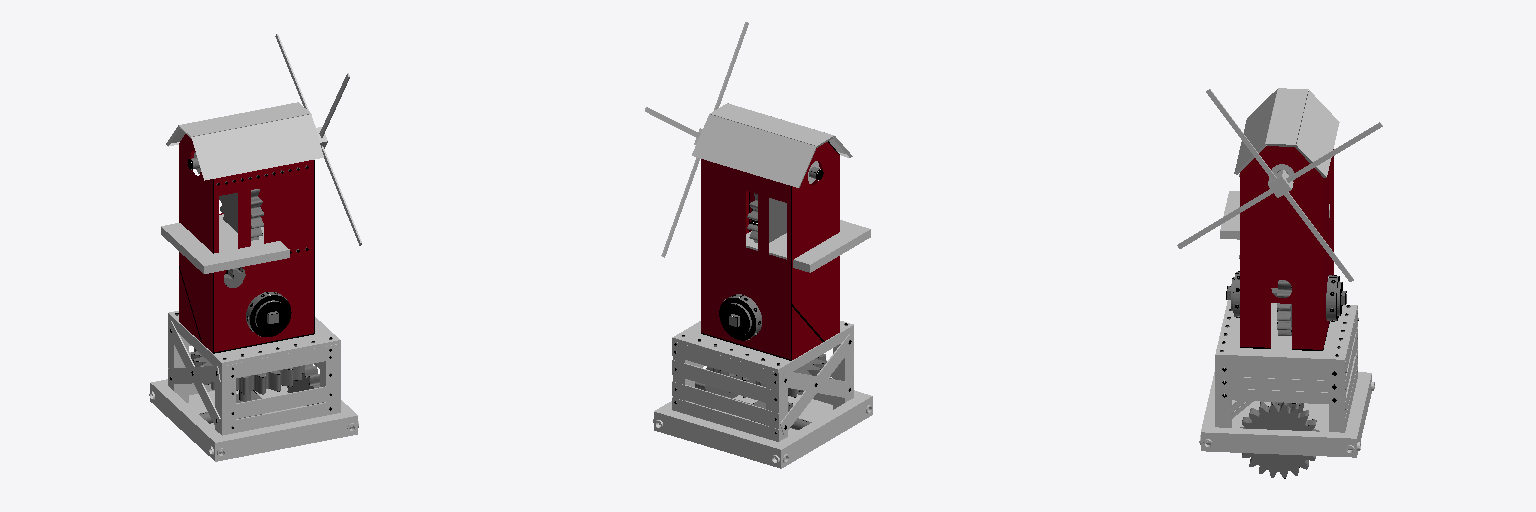
3 renders of one model, left to right at view 1: azimuth 30°, elevation 25°; view 2: azimuth 150°, elevation 25°; view 3: azimuth 270°, elevation 25°, orthographic.
Visible parts, largest first — view 1: Windmill.001, Windmill.005, Windmill.002, Windmill.006; view 2: Windmill.001, Windmill.005, Windmill.002, Windmill.006; view 3: Windmill.001, Windmill.005, Windmill.002, Windmill.006.
Part boxes in pixels (x1,y1,x2,y2): Windmill.001: (150,34,361,461); Windmill.005: (179,134,314,353); Windmill.002: (166,102,323,180); Windmill.006: (170,158,332,428); Windmill.001: (645,22,872,468); Windmill.005: (701,141,839,360); Windmill.002: (692,103,852,187); Windmill.006: (674,167,851,433); Windmill.001: (1177,89,1382,457); Windmill.005: (1240,146,1333,350); Windmill.002: (1234,88,1339,177); Windmill.006: (1220,170,1358,478).
Bounding box in the file's own units: 19.82 × 47.55 × 22.81.
Materials: 6 (2 with a texture image).